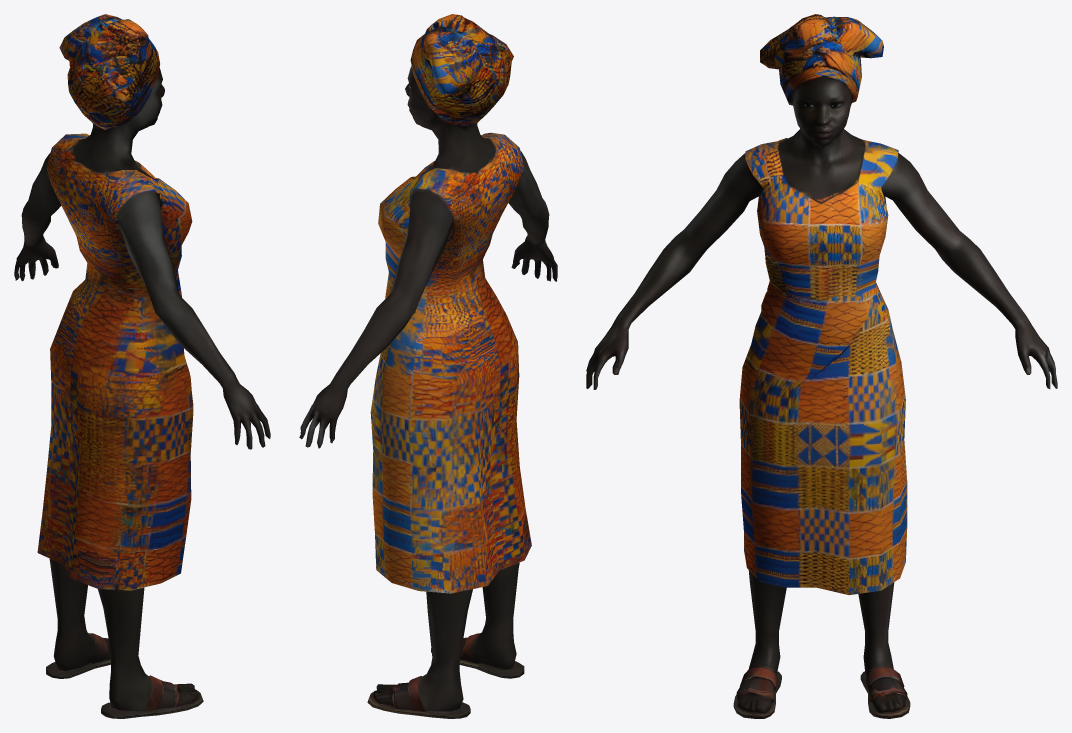
The model's file is femme_wax.glb.
3 renders of one model, left to right at view 1: azimuth 30°, elevation 25°; view 2: azimuth 150°, elevation 25°; view 3: azimuth 270°, elevation 25°, orthographic.
Visible parts, largest first — view 1: tripo_node_116c69cb-3822-4f83-8f8d-d5324b5f6297; view 2: tripo_node_116c69cb-3822-4f83-8f8d-d5324b5f6297; view 3: tripo_node_116c69cb-3822-4f83-8f8d-d5324b5f6297.
Part boxes in pixels (x1=…): tripo_node_116c69cb-3822-4f83-8f8d-d5324b5f6297: x1=14, y1=14, x2=270, y2=718; tripo_node_116c69cb-3822-4f83-8f8d-d5324b5f6297: x1=299, y1=14, x2=557, y2=718; tripo_node_116c69cb-3822-4f83-8f8d-d5324b5f6297: x1=586, y1=14, x2=1057, y2=718.
Size of the model in its own units: 0.1855 by 0.998 by 0.6309.
Materials: 1 (1 with a texture image).
